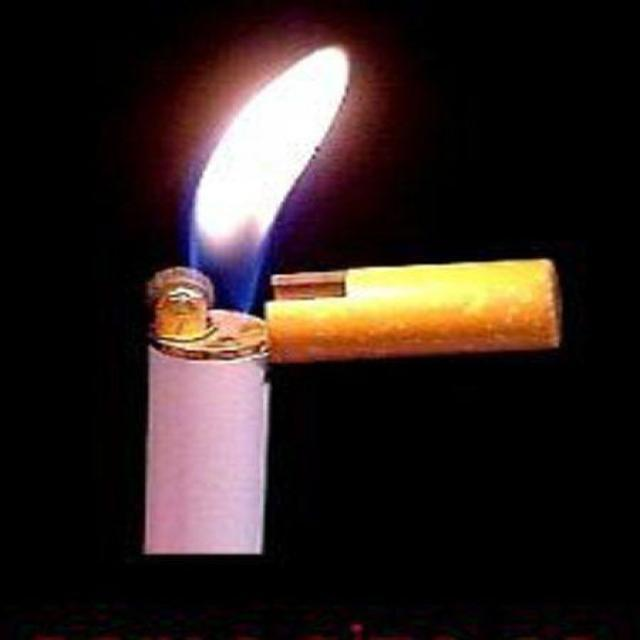Fire: (185, 42, 352, 312)
